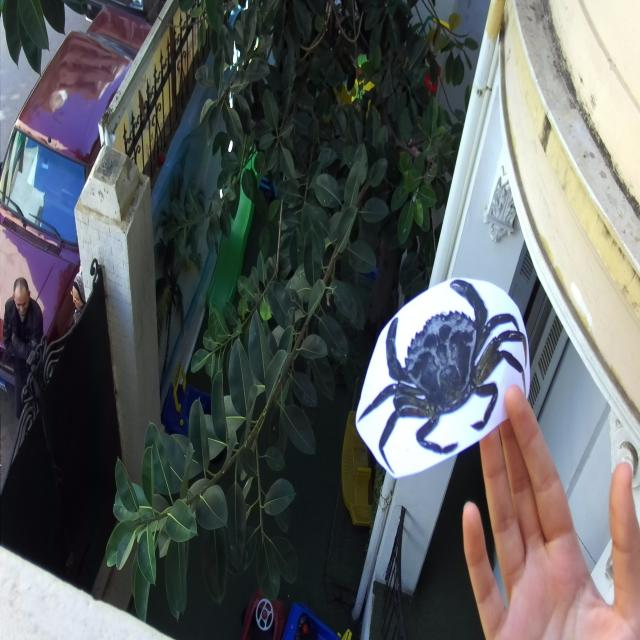European_Green_Crab: (341, 241, 538, 506)
